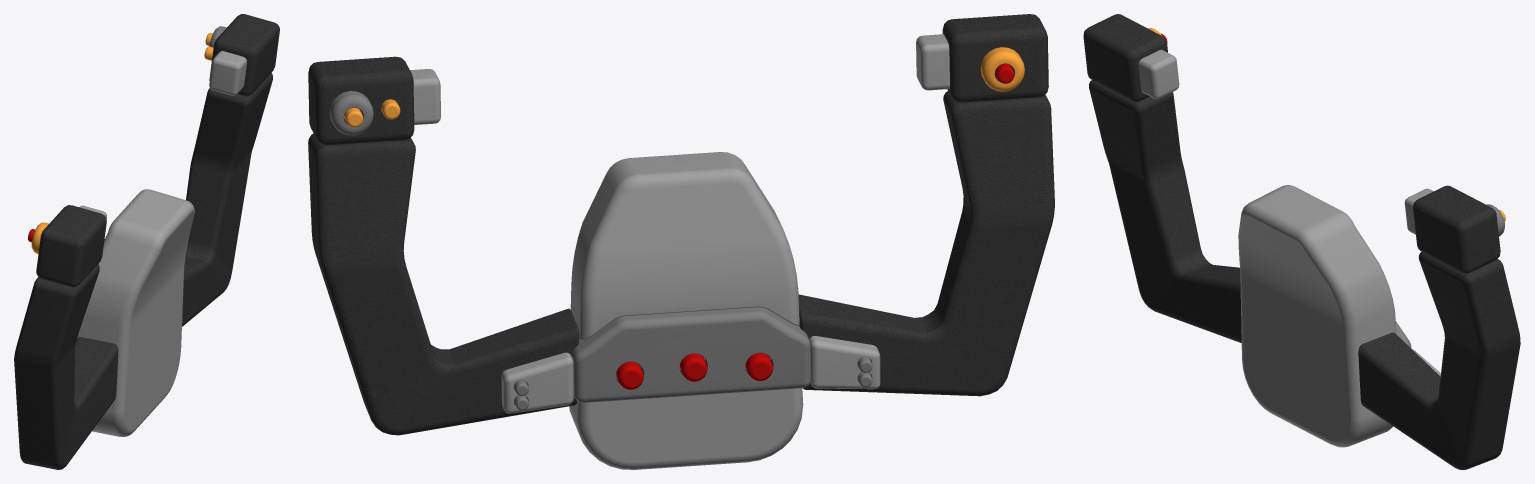
The model's file is plane_controller (1).fbx.
The picture shows the model from 3 angles, left to right: view 1: azimuth 30°, elevation 25°; view 2: azimuth 150°, elevation 25°; view 3: azimuth 270°, elevation 25°; orthographic projection. The views are drawn at different scales.
Visible parts, largest first — view 1: plane_controller__1_; view 2: plane_controller__1_; view 3: plane_controller__1_.
Part boxes in pixels (bbox=[...]): plane_controller__1_: bbox=[14, 14, 279, 469]; plane_controller__1_: bbox=[308, 14, 1054, 469]; plane_controller__1_: bbox=[1083, 14, 1520, 469].
Bounding box in the file's own units: 117 × 80.32 × 99.81.
